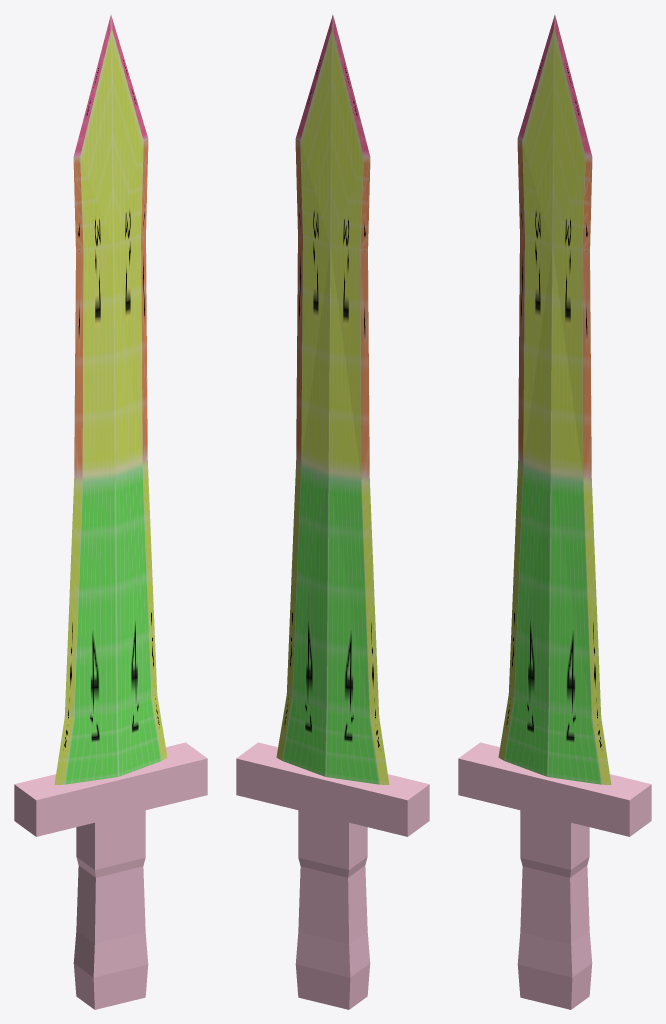
Rendered from playerSword.obj.
3 views of the same model, side by side, from view 1: azimuth 30°, elevation 25°; view 2: azimuth 150°, elevation 25°; view 3: azimuth 330°, elevation 25° (orthographic).
Parts seen in each view (by area): view 1: Cube; view 2: Cube; view 3: Cube.
Part boxes in pixels (bbox=[...]): Cube: bbox=[14, 15, 207, 1009]; Cube: bbox=[236, 15, 429, 1009]; Cube: bbox=[458, 15, 651, 1009].
Bounding box in the file's own units: 0.2763 × 1.51 × 0.0613.
Materials: 1 (1 with a texture image).
